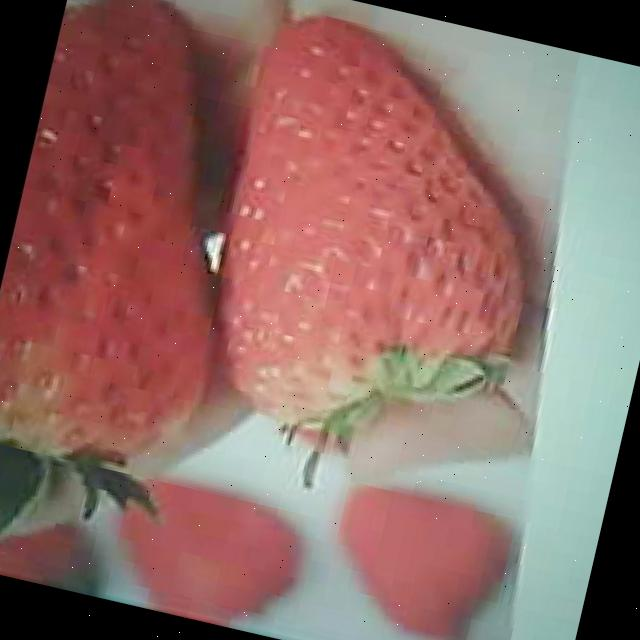strawberry: (184, 6, 574, 463), (0, 0, 279, 478)
